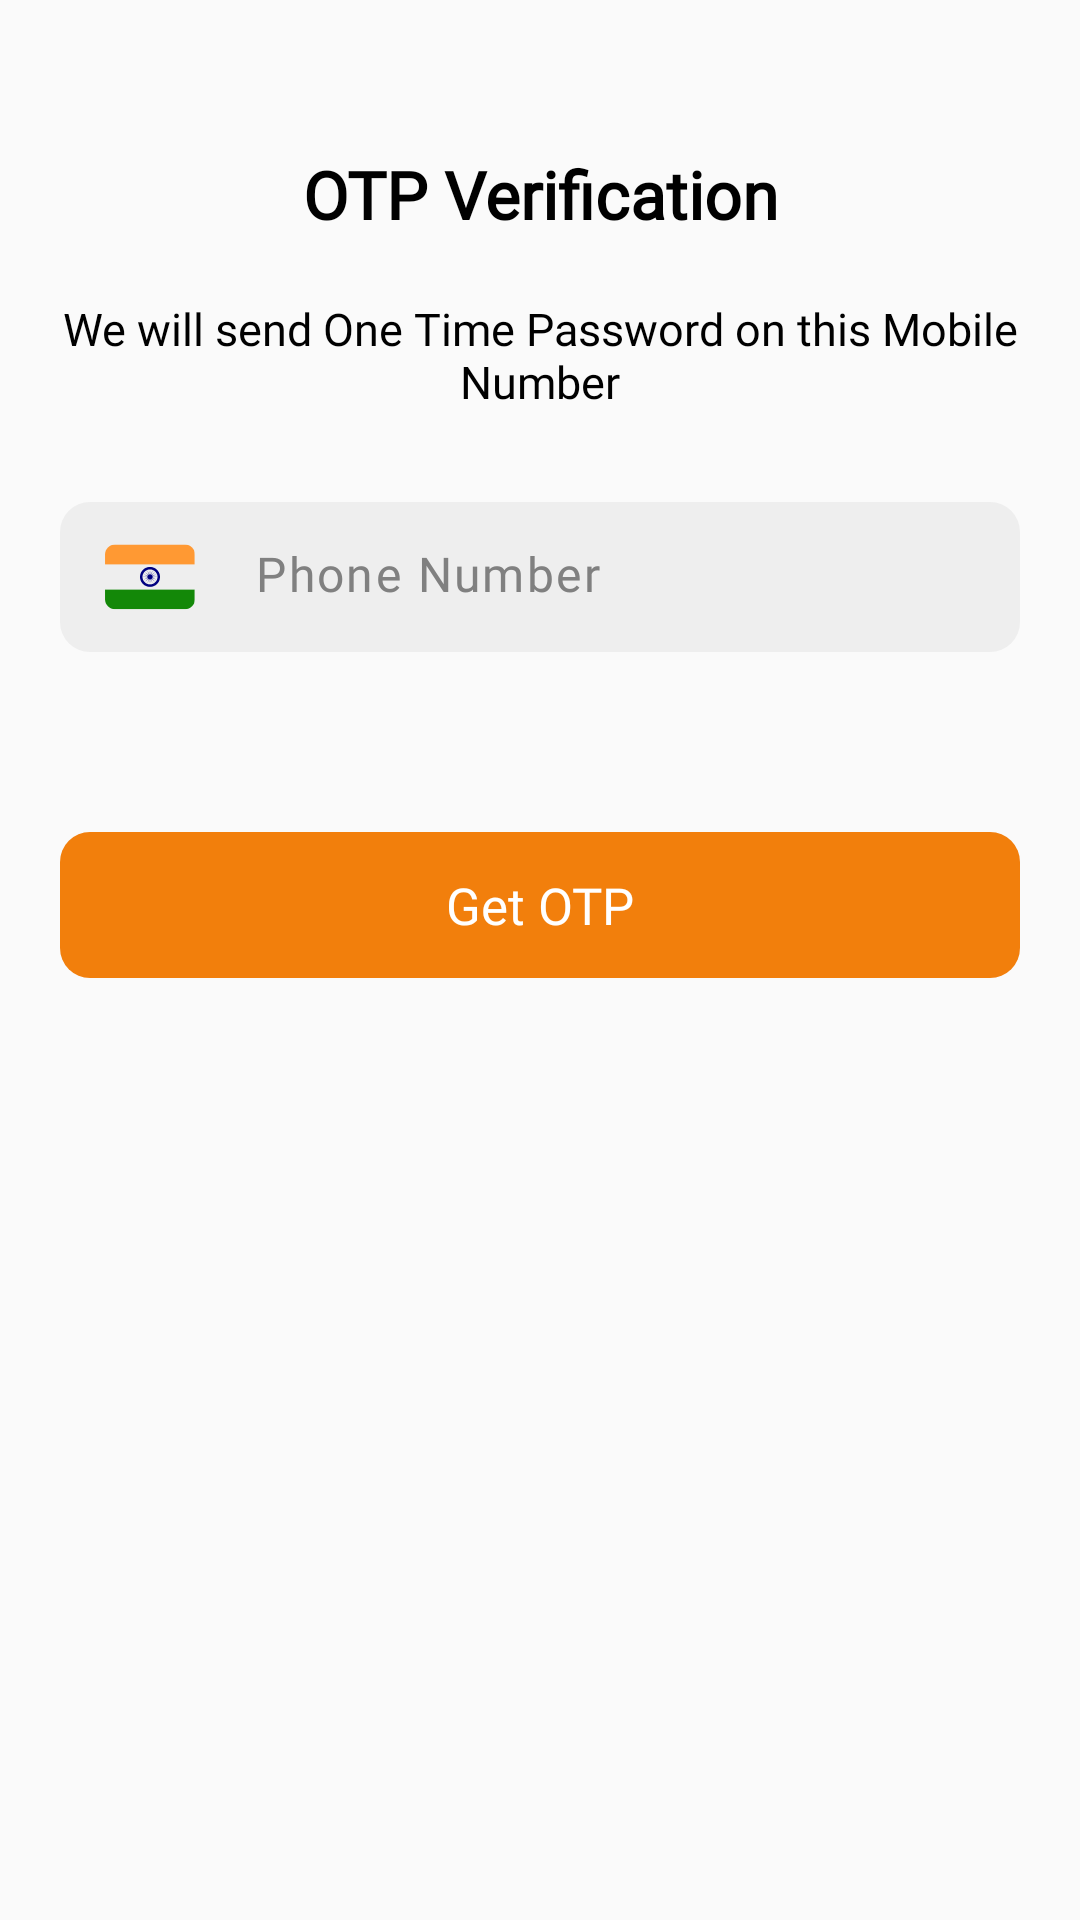

Named icons in this screenshot (1080 x 1920) and their bounding boxes, box(x1, y1, x2, y2):
flag: box(105, 544, 195, 609)
